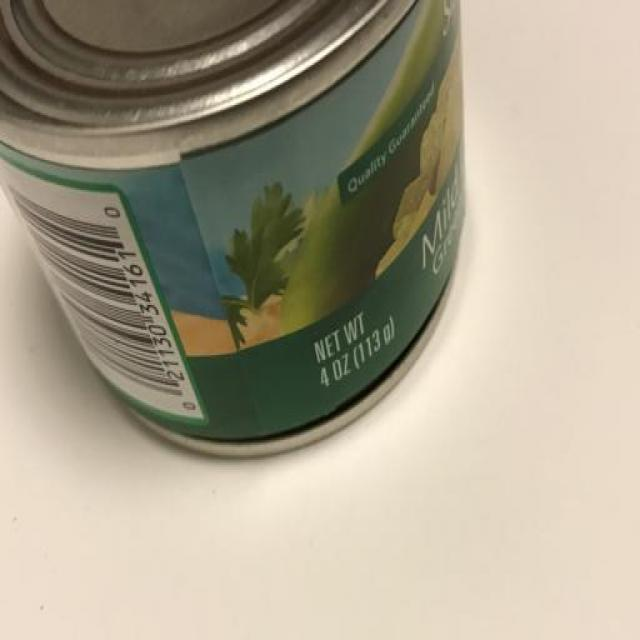metel: (2, 6, 486, 503)
